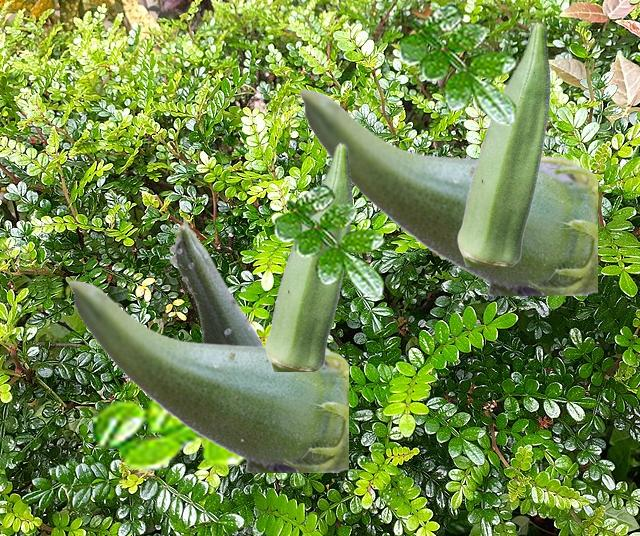okra: (298, 88, 596, 294), (68, 279, 347, 471), (457, 21, 549, 265), (265, 142, 351, 370), (168, 218, 267, 344)
